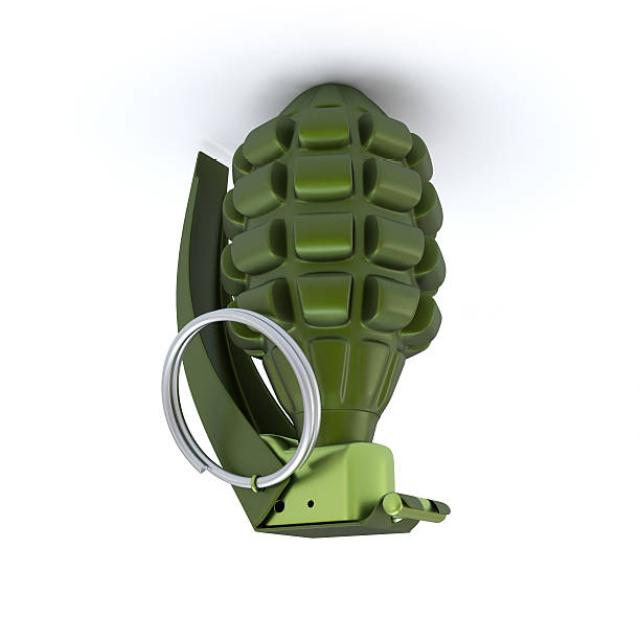grenade: (159, 79, 459, 543)
